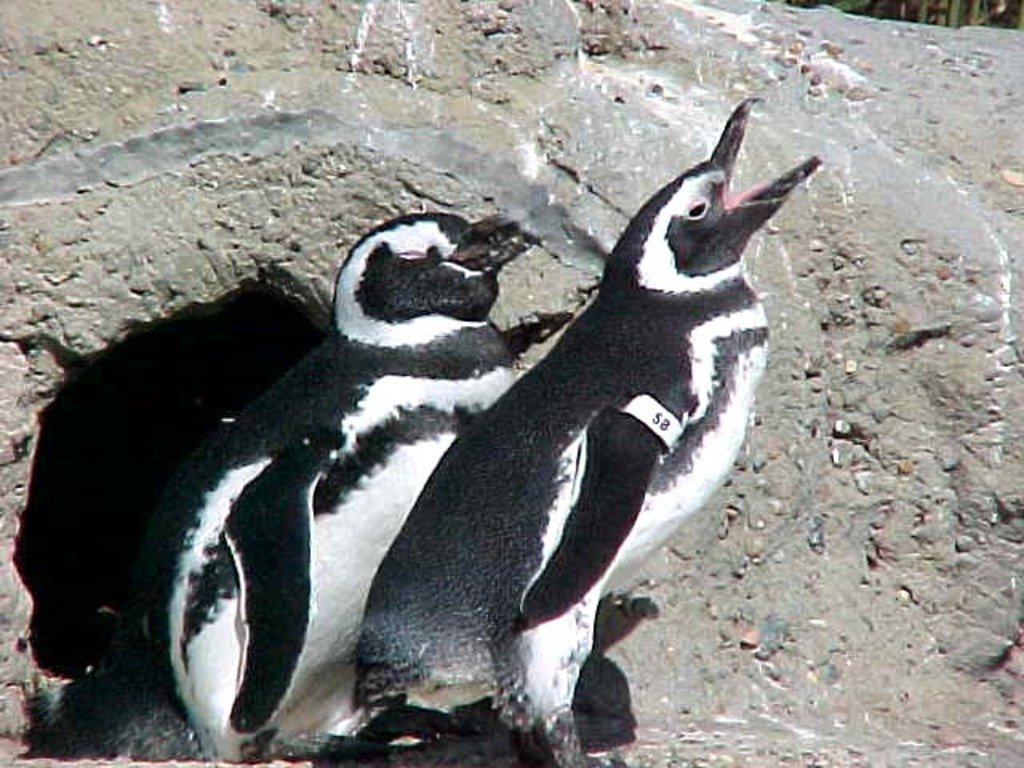Bird: (126, 211, 528, 765)
